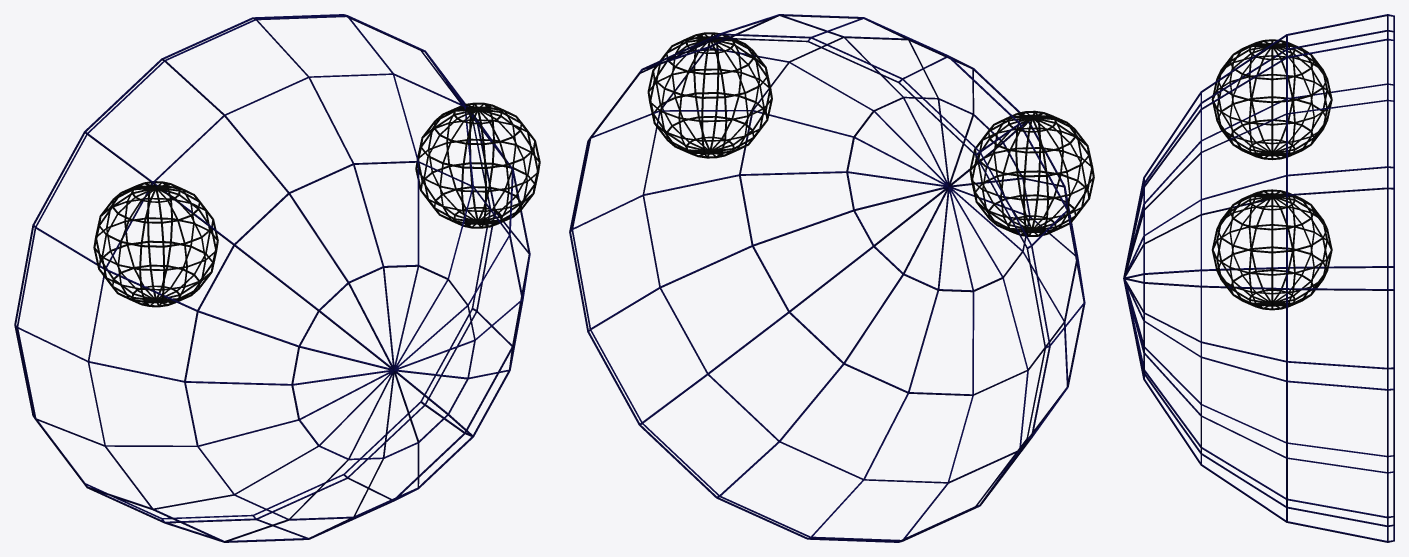
File: wire_blue_top.obj
The picture shows the model from 3 angles, left to right: view 1: azimuth 30°, elevation 25°; view 2: azimuth 150°, elevation 25°; view 3: azimuth 270°, elevation 25°; orthographic projection. The views are drawn at different scales.
Parts seen in each view (by area): view 1: Sphere_Sphere.000_Sphere_Sphere.001, Sphere.001_Sphere.001, Sphere_Sphere.001; view 2: Sphere_Sphere.000_Sphere_Sphere.001, Sphere.001_Sphere.001, Sphere_Sphere.001; view 3: Sphere_Sphere.000_Sphere_Sphere.001, Sphere_Sphere.001, Sphere.001_Sphere.001.
Boxes of the visible parts, box(x1,y1,x2,y2) form: Sphere_Sphere.000_Sphere_Sphere.001: box(14, 14, 530, 542); Sphere.001_Sphere.001: box(93, 181, 218, 307); Sphere_Sphere.001: box(415, 102, 540, 228); Sphere_Sphere.000_Sphere_Sphere.001: box(569, 14, 1085, 542); Sphere.001_Sphere.001: box(969, 110, 1094, 236); Sphere_Sphere.001: box(647, 32, 772, 158); Sphere_Sphere.000_Sphere_Sphere.001: box(1123, 14, 1394, 542); Sphere_Sphere.001: box(1211, 189, 1332, 310); Sphere.001_Sphere.001: box(1211, 39, 1332, 160).
Bounding box in the file's own units: 5.34 × 5.34 × 2.74.
